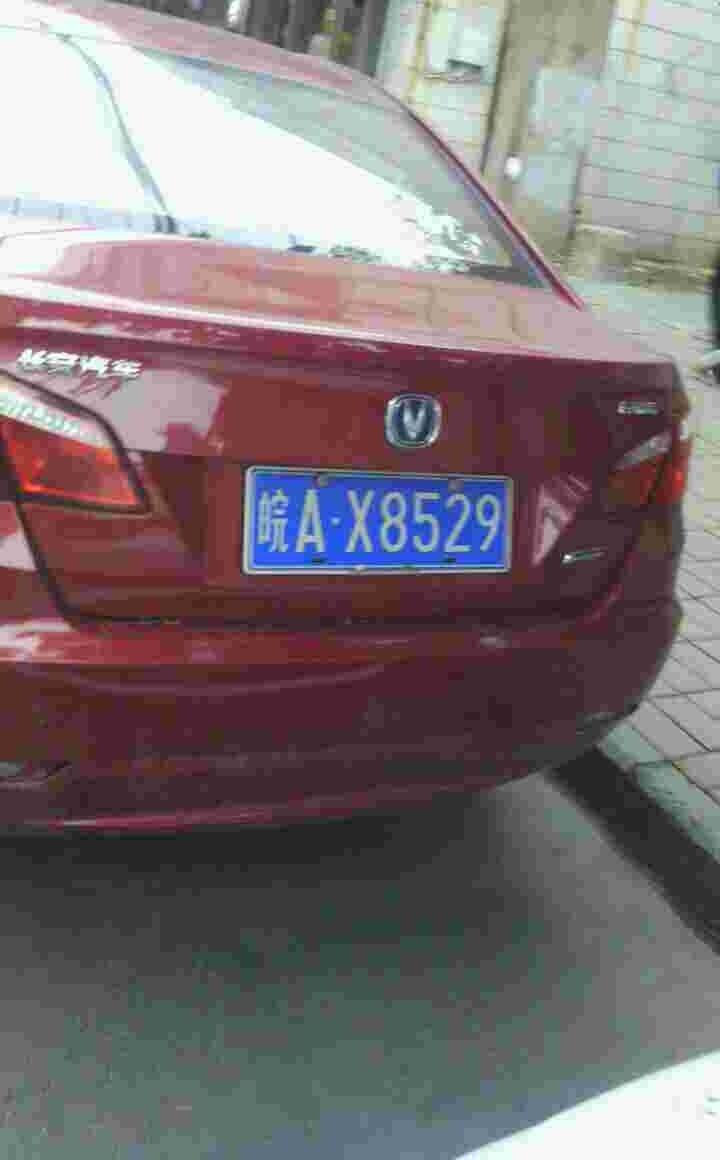plate: (257, 469, 520, 574)
